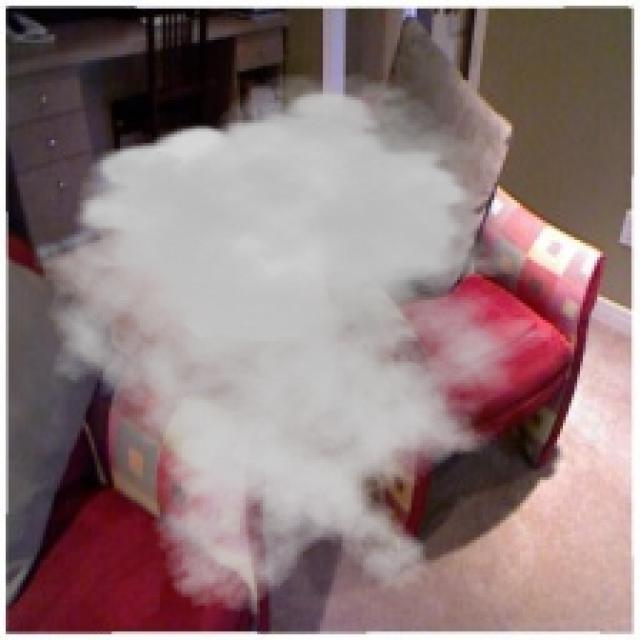Smoke: (22, 71, 578, 614)
